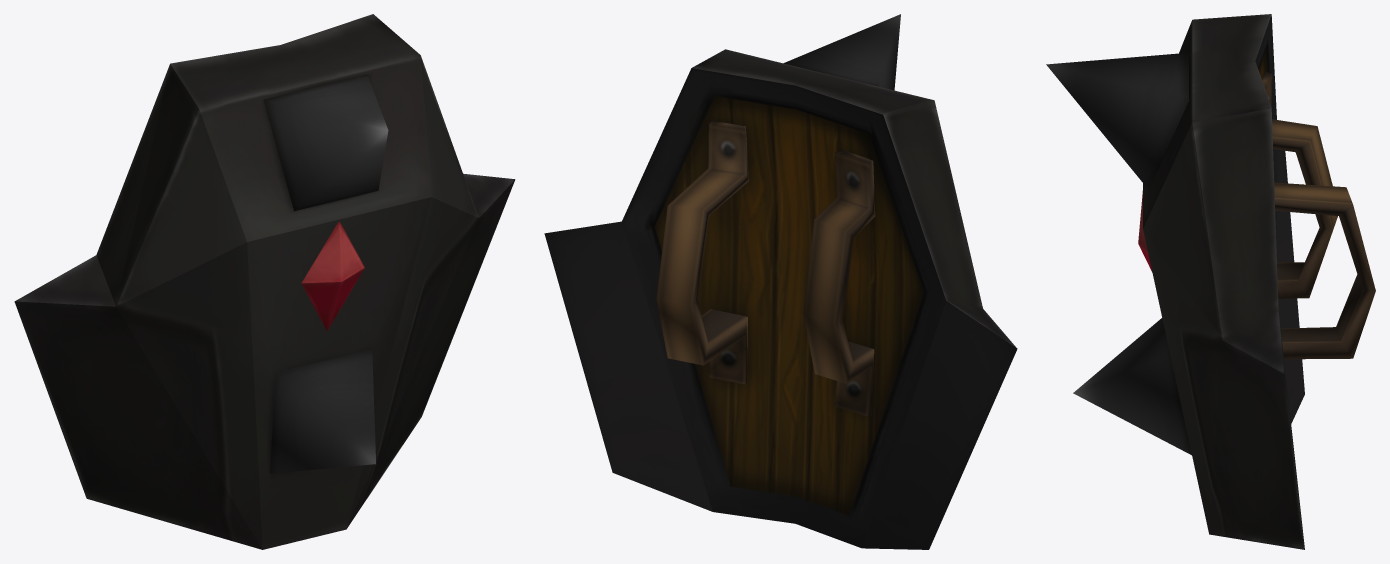
Rendered from weapon_dark_shield.fbx.
3 renders of one model, left to right at view 1: azimuth 30°, elevation 25°; view 2: azimuth 150°, elevation 25°; view 3: azimuth 270°, elevation 25°, orthographic. The views are drawn at different scales.
Visible parts, largest first — view 1: darkKnight_shield; view 2: darkKnight_shield; view 3: darkKnight_shield.
Part boxes in pixels (x1,y1,x2,y2): darkKnight_shield: (14, 14, 515, 549); darkKnight_shield: (544, 14, 1017, 549); darkKnight_shield: (1046, 14, 1375, 549).
Bounding box in the file's own units: 52.31 × 47.58 × 31.35.
1 material, 1 textured.
